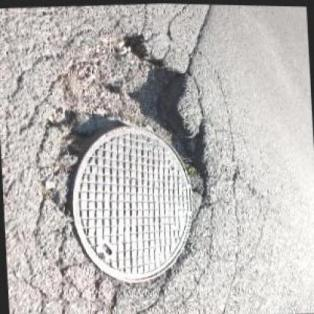Hueco: (45, 22, 216, 192)
